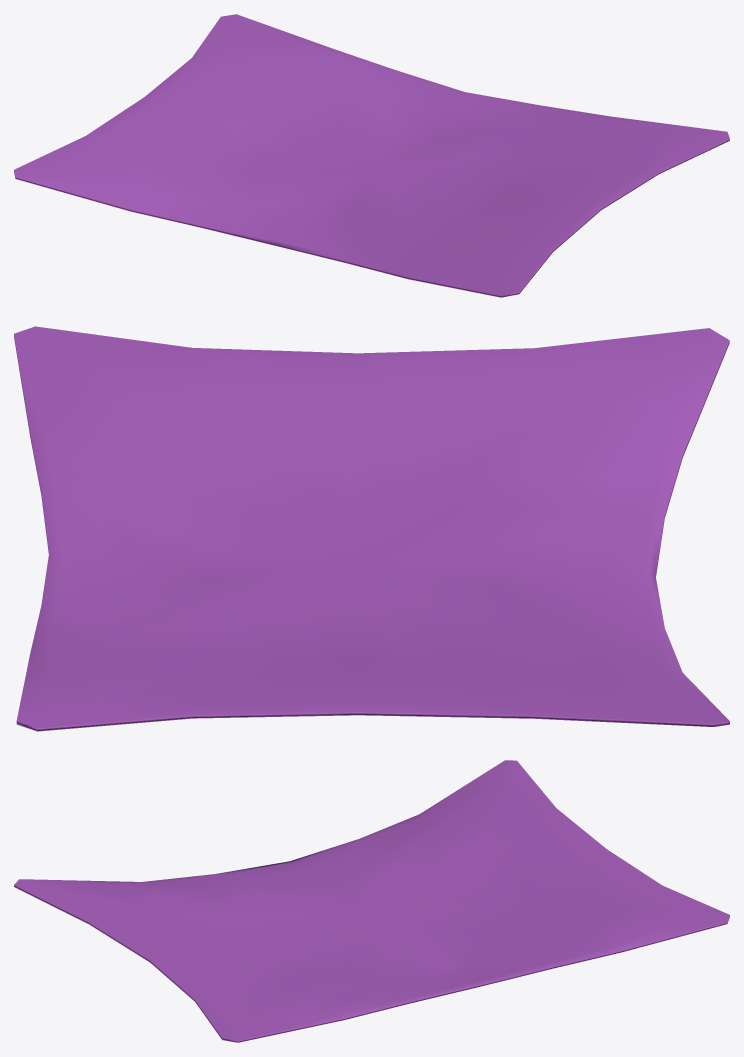
File: Enviro_MarketTop_Purple_Creole_Untextured.fbx
3 views of the same model, one above another, from view 1: azimuth 30°, elevation 25°; view 2: azimuth 150°, elevation 25°; view 3: azimuth 270°, elevation 25° (orthographic). The views are drawn at different scales.
Parts seen in each view (by area): view 1: Cloth_Purple; view 2: Cloth_Purple; view 3: Cloth_Purple.
Part boxes in pixels (x1,y1,x2,y2): Cloth_Purple: (14, 14, 729, 297); Cloth_Purple: (14, 326, 729, 731); Cloth_Purple: (14, 760, 729, 1042).
Bounding box in the file's own units: 5.75 × 0.2883 × 6.16.
